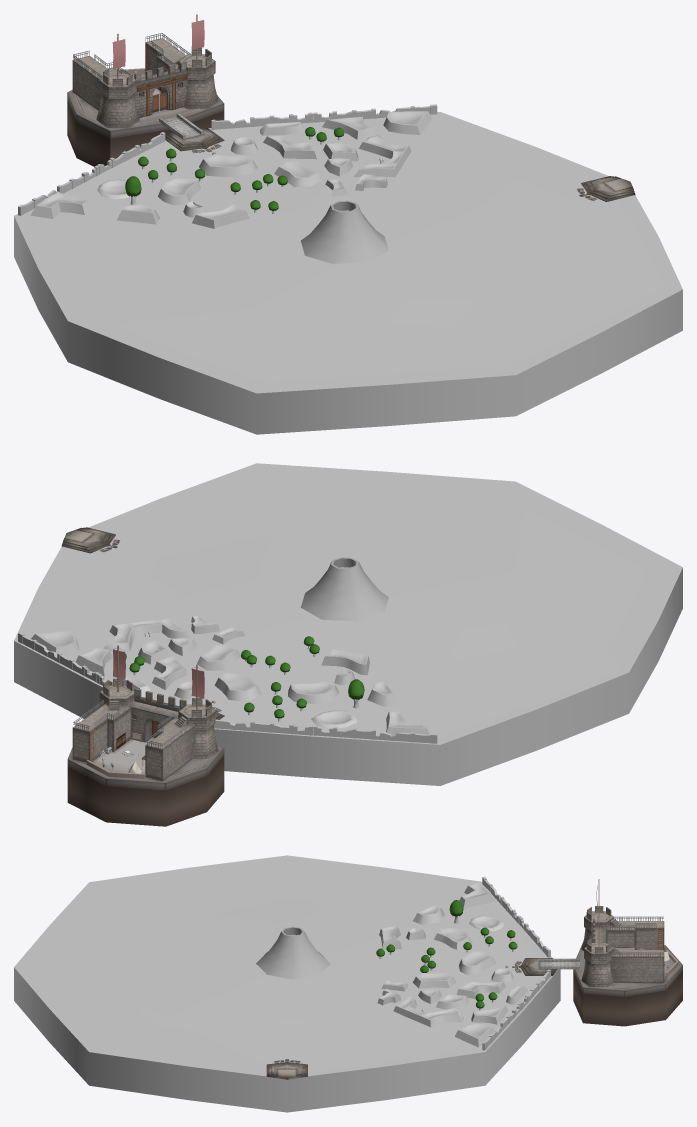
Rendered from back_stage4.fbx.
3 renders of one model, top to bottom at view 1: azimuth 30°, elevation 25°; view 2: azimuth 150°, elevation 25°; view 3: azimuth 270°, elevation 25°, orthographic. The views are drawn at different scales.
Visible parts, largest first — view 1: polymsh3; view 2: polymsh3; view 3: polymsh3.
Boxes of the visible parts, x1=… form: polymsh3: x1=14, y1=14, x2=682, y2=434; polymsh3: x1=14, y1=463, x2=682, y2=826; polymsh3: x1=14, y1=855, x2=682, y2=1112.
Size of the model in its own units: 5212 by 1150 by 6575.
